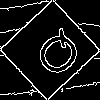Q: (25, 25, 87, 88)
